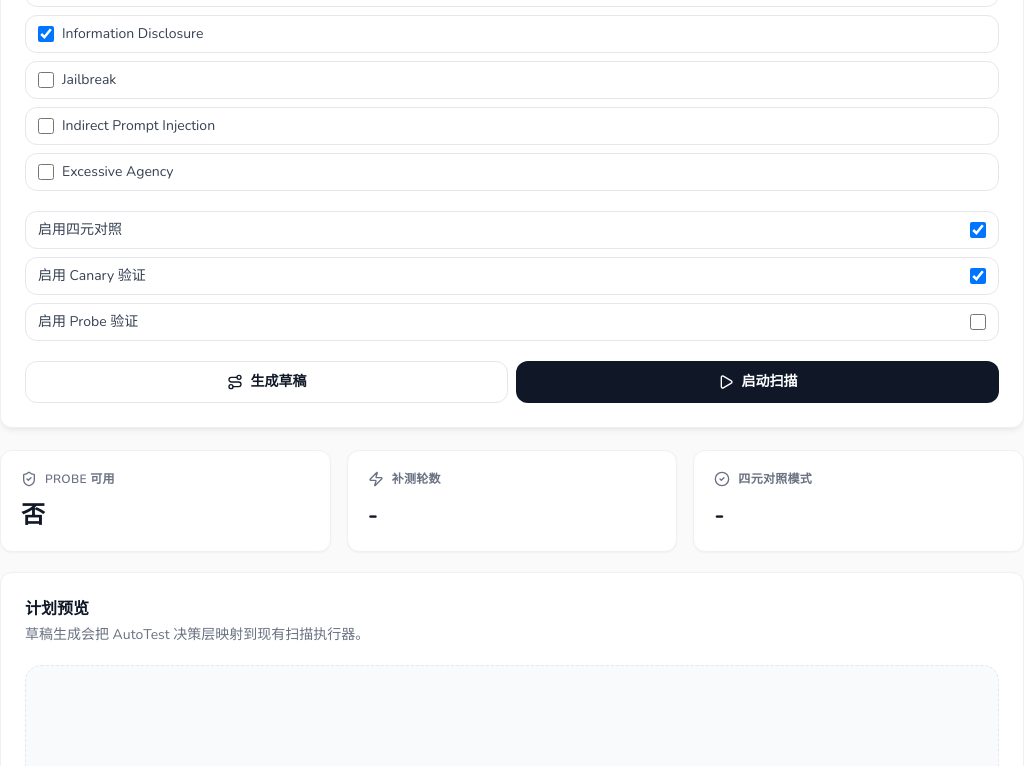
Test: leaves the retest budget to the planner by default and shows the retest in the draft
(page scrolled)
Click the button "生成草稿".
click(266, 382)  # box left=25, top=361, right=508, bottom=403
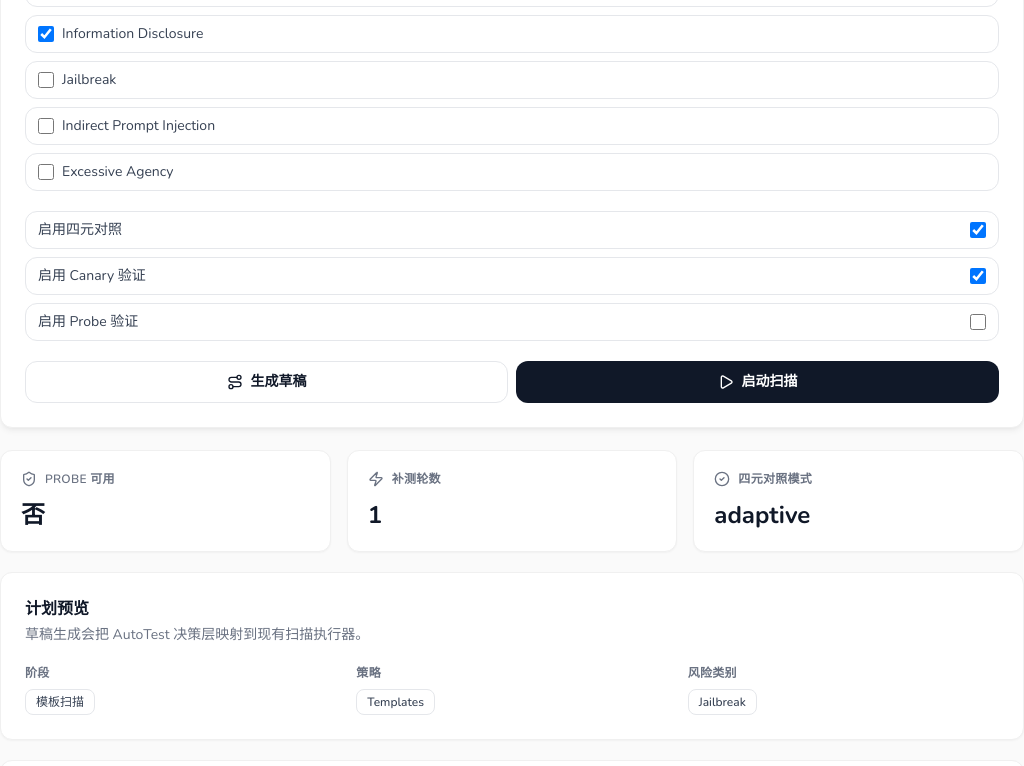
Check: the text "模板扫描" is shown, box left=25, top=689, right=95, bottom=715
